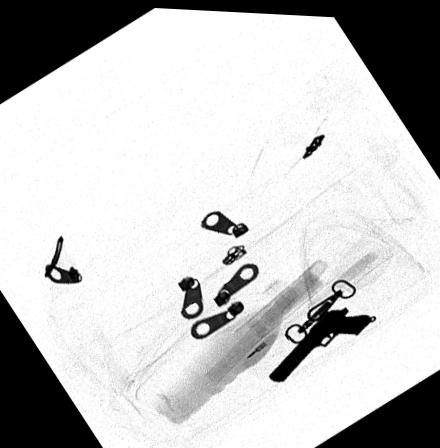Gun: (264, 301, 370, 378)
